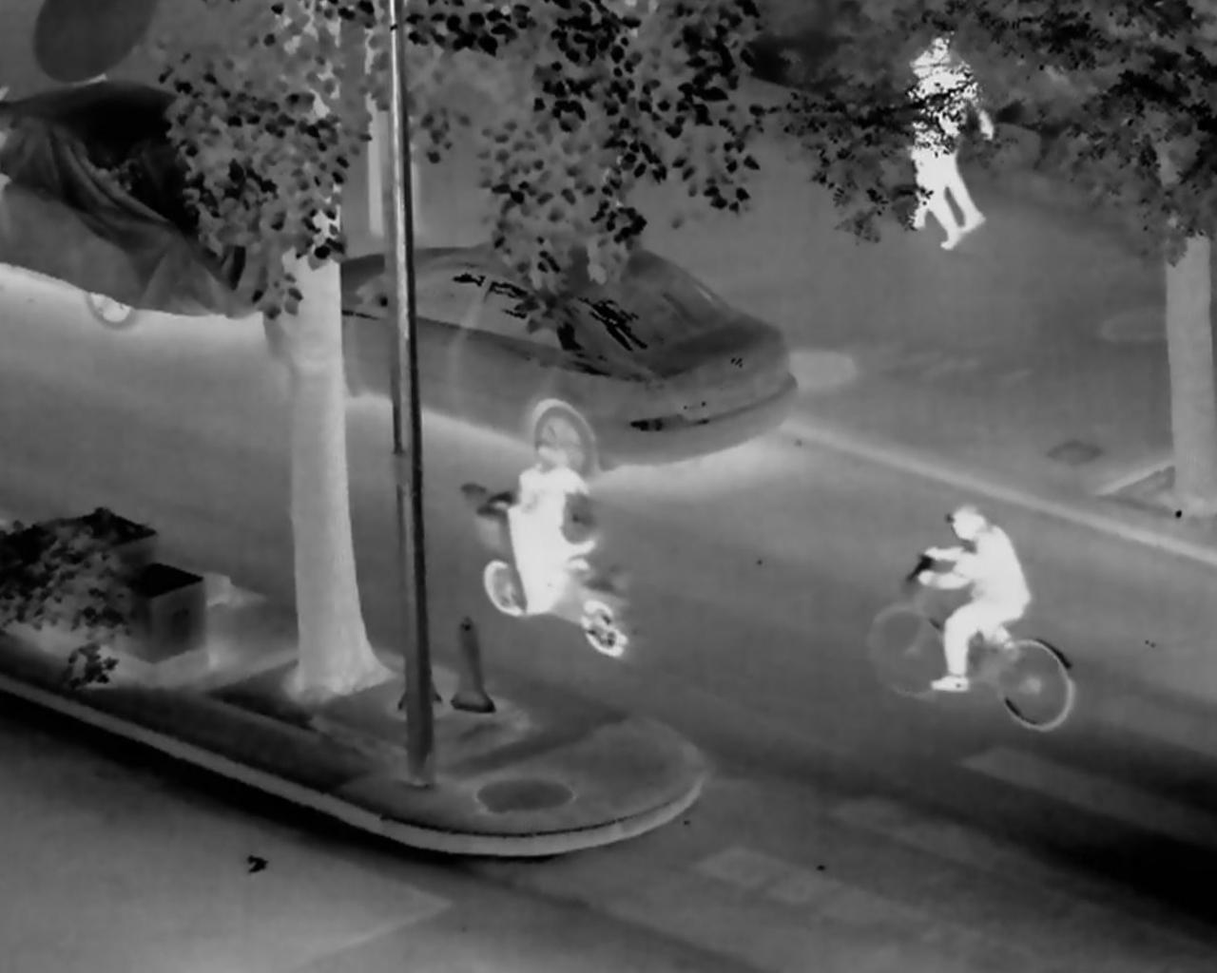person: (915, 507, 1030, 695), (913, 29, 991, 236), (505, 450, 596, 611), (894, 51, 956, 249)
